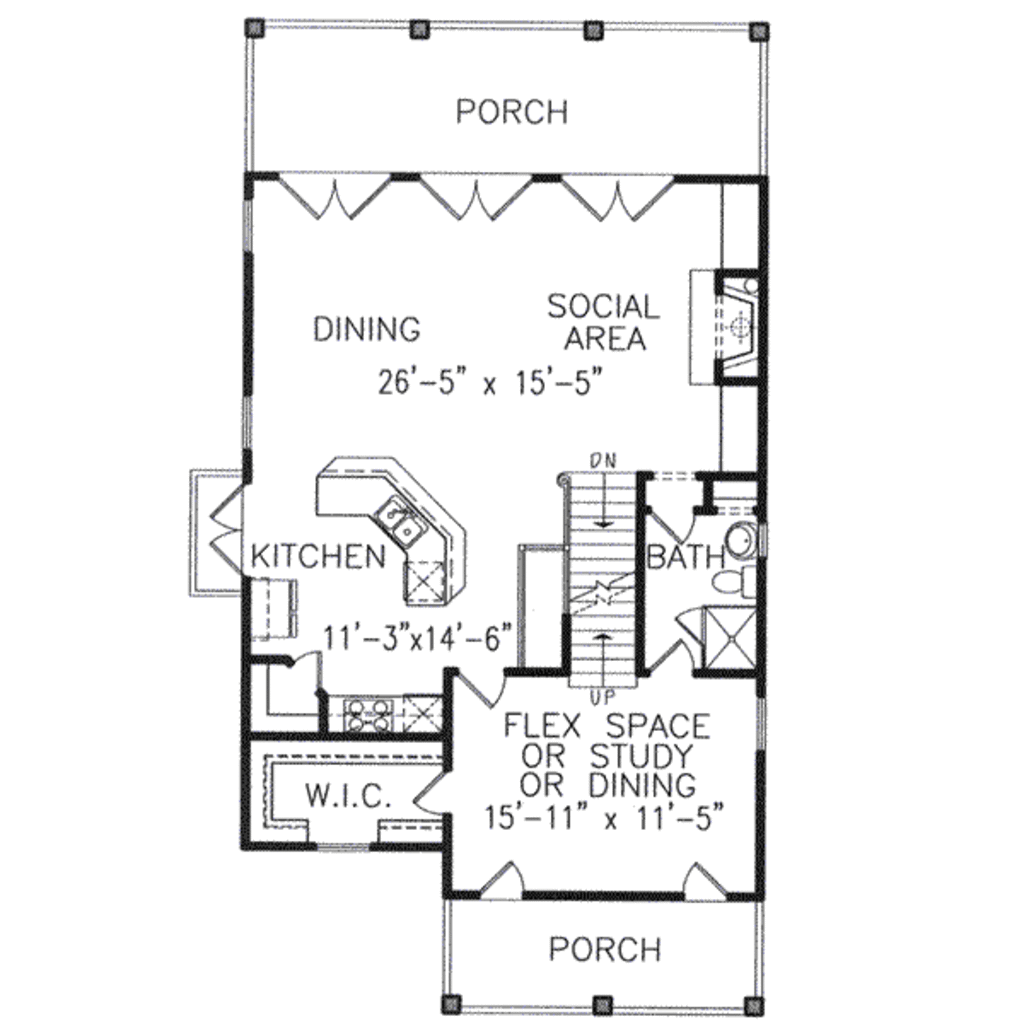door: (415, 169, 535, 224), (552, 173, 674, 222), (272, 168, 388, 219), (447, 663, 516, 719), (209, 484, 247, 583), (639, 636, 698, 682), (679, 856, 727, 908), (641, 506, 701, 547), (286, 648, 334, 689), (475, 863, 522, 901), (413, 772, 448, 819)
kitchen_bar: (310, 454, 468, 609)
large_sink: (704, 560, 760, 604)
stairs: (560, 447, 641, 705)
windows: (235, 196, 261, 257), (751, 688, 771, 753), (237, 389, 256, 450), (310, 837, 373, 854)
